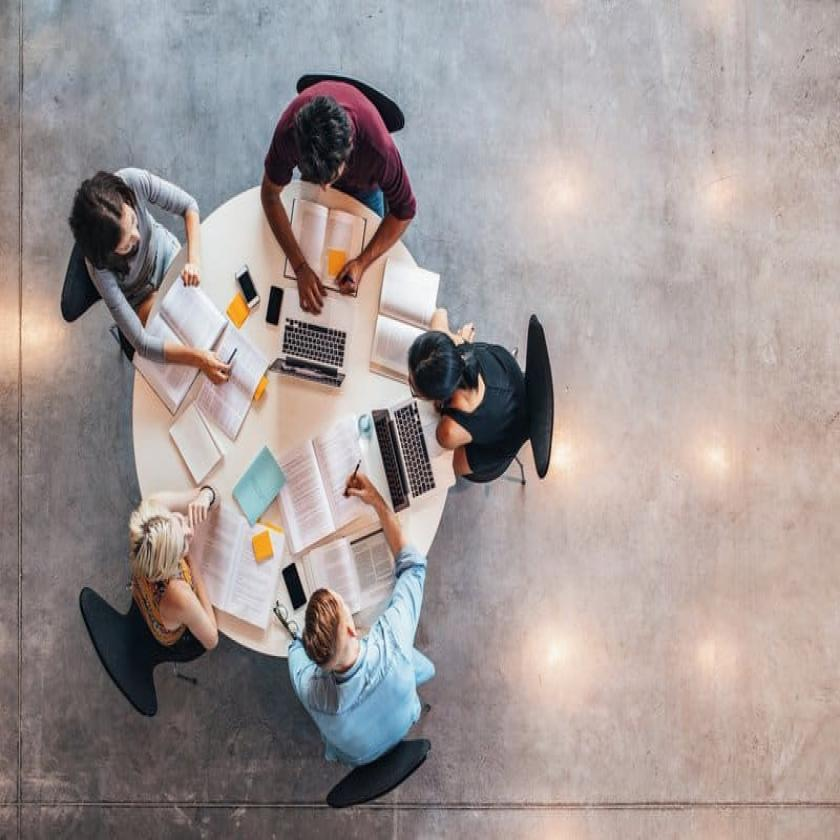Sin_casco: (66, 168, 148, 270), (404, 318, 476, 424), (120, 491, 193, 593), (291, 93, 355, 197), (303, 588, 359, 678)
